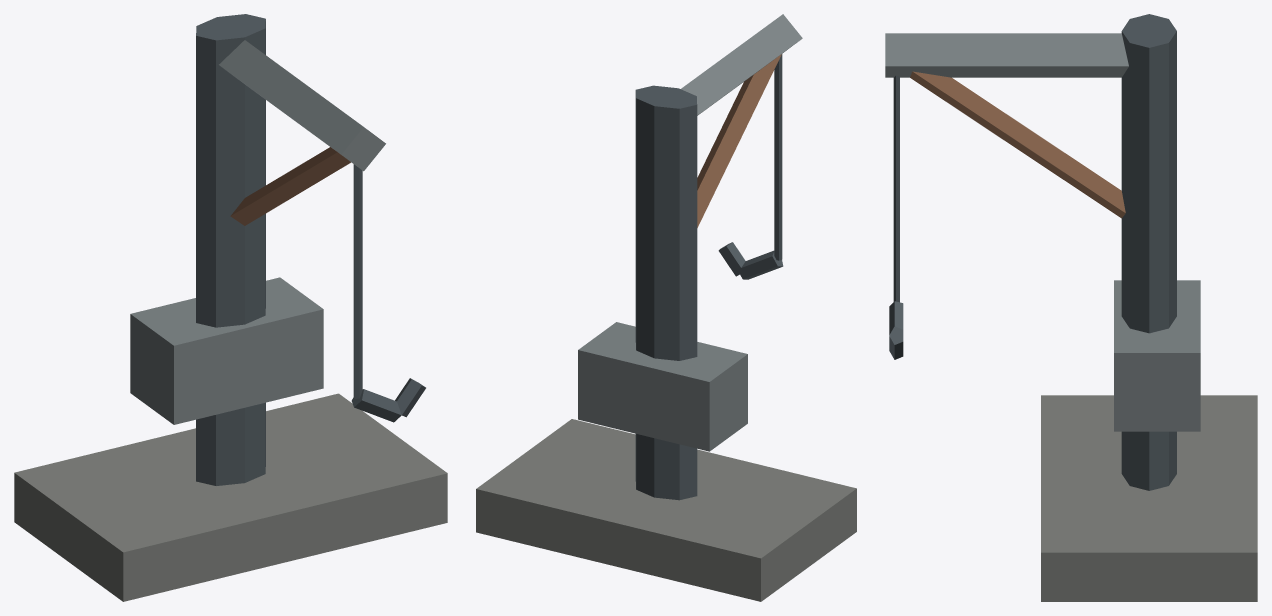
File: jib_crane.glb
3 renders of one model, left to right at view 1: azimuth 30°, elevation 25°; view 2: azimuth 150°, elevation 25°; view 3: azimuth 270°, elevation 25°, orthographic. The views are drawn at different scales.
Parts seen in each view (by area): view 1: jib_crane; view 2: jib_crane; view 3: jib_crane.
Part boxes in pixels (bbox=[...]): jib_crane: bbox=[14, 14, 447, 601]; jib_crane: bbox=[476, 14, 856, 601]; jib_crane: bbox=[885, 14, 1257, 601].
Bounding box in the file's own units: 1.92 × 2.8 × 1.92.
